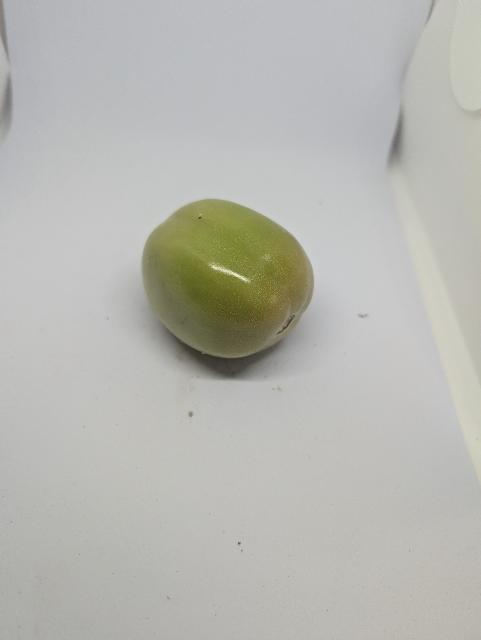green: (141, 196, 318, 361)
